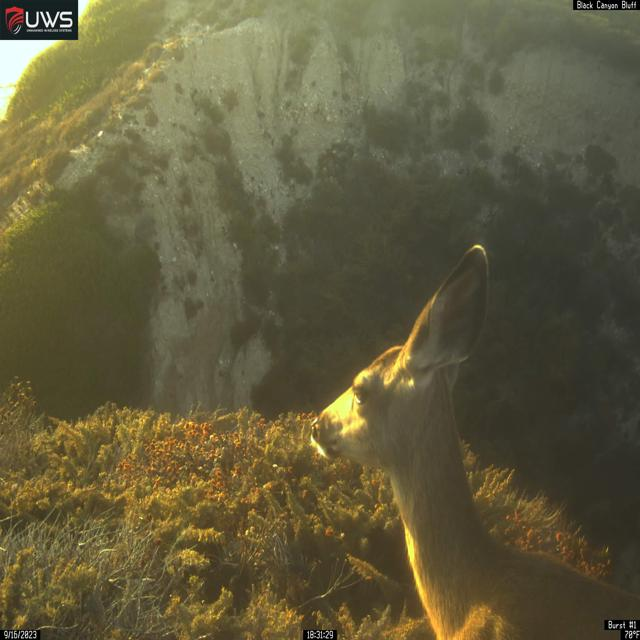deer: (310, 242, 640, 640)
